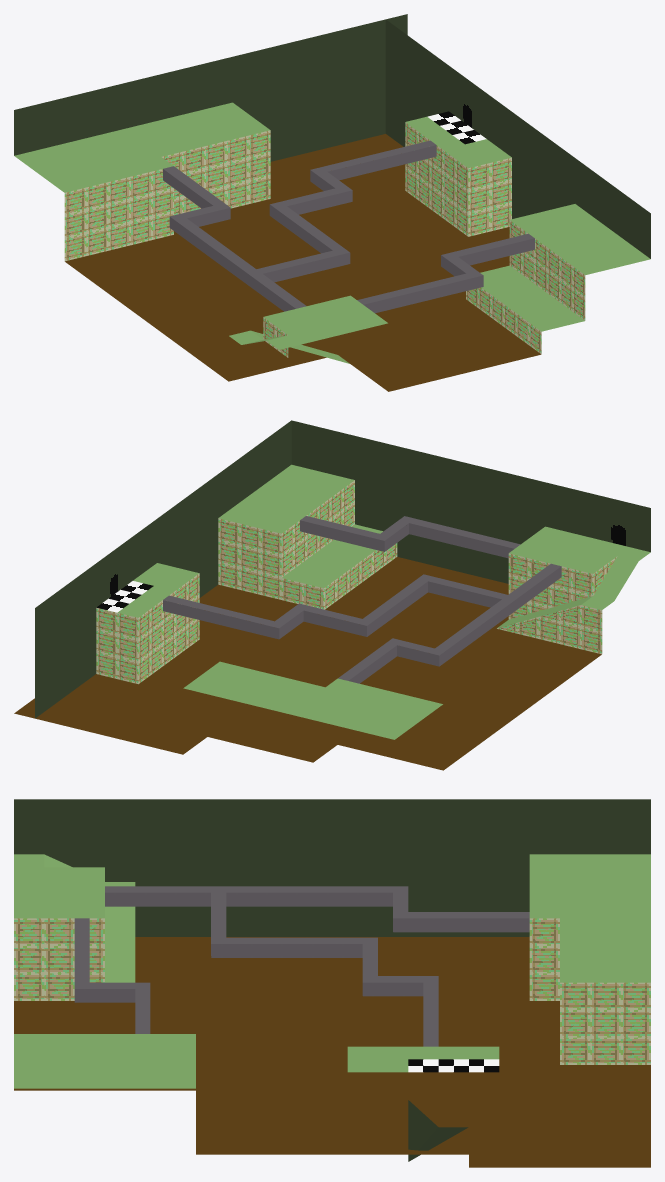
Rendered from LevelThree_Clean.gltf.
The picture shows the model from 3 angles, top to bottom: view 1: azimuth 30°, elevation 25°; view 2: azimuth 150°, elevation 25°; view 3: azimuth 270°, elevation 25°; orthographic projection. The views are drawn at different scales.
Bounding box in the file's own units: 18.5 × 5.5 × 21.
2 materials, 2 textured.
